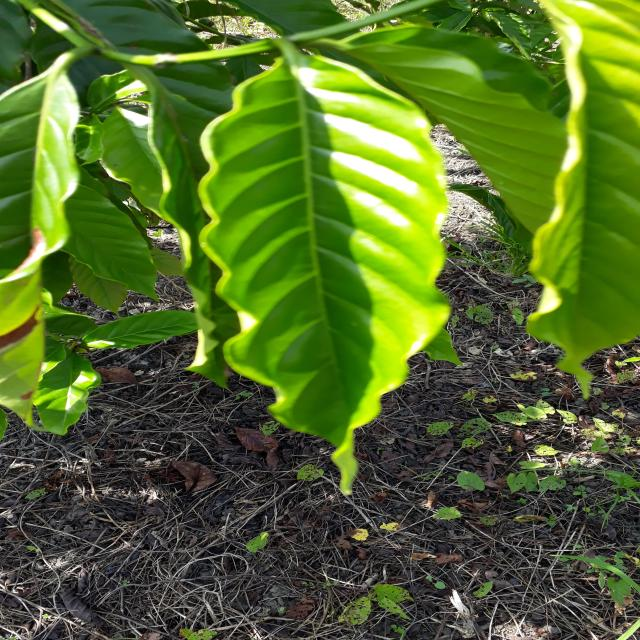Sanas: (195, 40, 452, 494)
